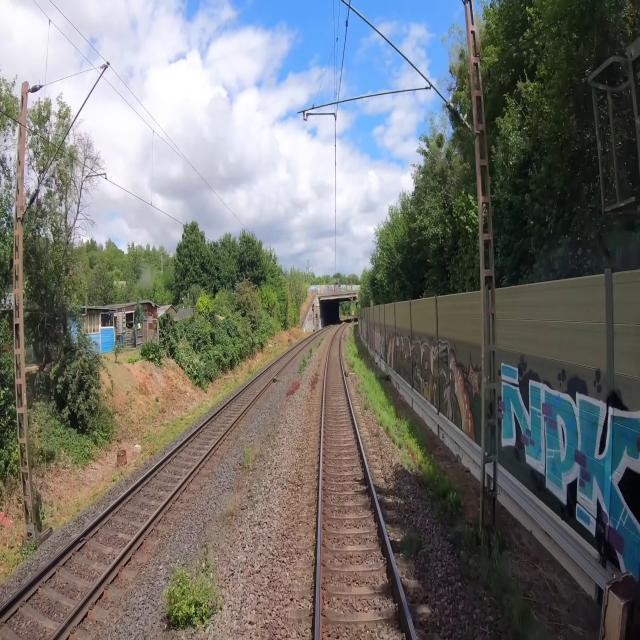Plant: (162, 562, 222, 629), (358, 380, 391, 437), (298, 337, 323, 372), (401, 532, 420, 560), (344, 346, 358, 373), (201, 541, 211, 572), (286, 379, 300, 395), (243, 445, 252, 468), (360, 399, 368, 416)
